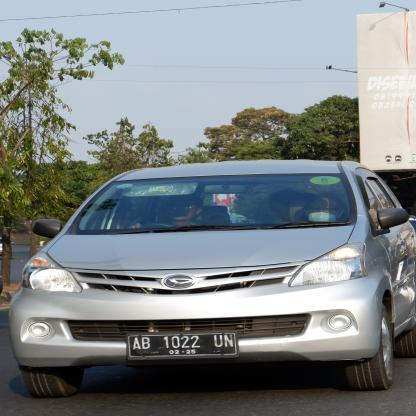Plat-Nomor: (126, 331, 241, 360)
